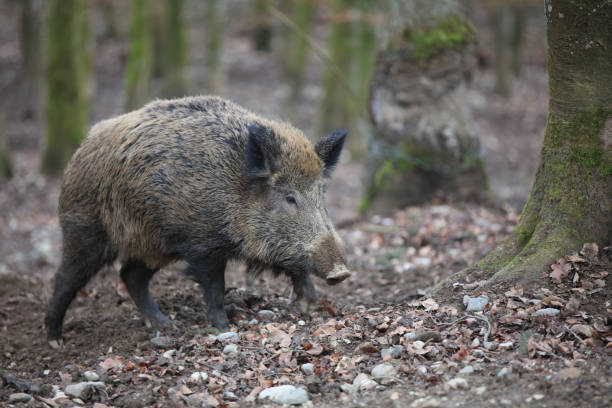pig: (55, 96, 357, 308)
